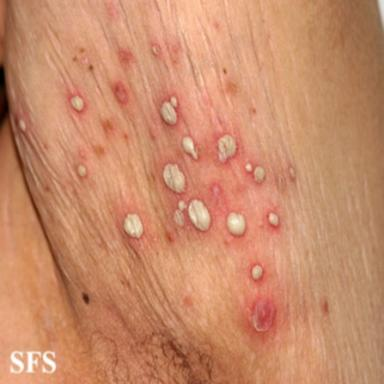Impetigo: (252, 298, 275, 332), (188, 199, 211, 231), (163, 164, 185, 193), (217, 134, 236, 162), (160, 96, 178, 125), (227, 212, 246, 236), (124, 214, 143, 238), (182, 136, 198, 160), (113, 81, 128, 104), (174, 200, 187, 226), (119, 47, 133, 63), (71, 95, 84, 111), (251, 264, 263, 280), (253, 166, 265, 182), (269, 212, 279, 227), (211, 185, 221, 197), (77, 165, 86, 176), (19, 119, 26, 132), (245, 163, 253, 172), (289, 167, 295, 178), (151, 46, 158, 55)
